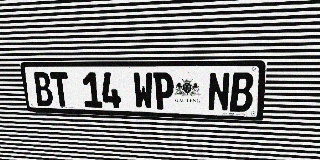1: (81, 72, 102, 108)
4: (100, 72, 121, 108)
B: (230, 72, 254, 112), (32, 72, 54, 106)
N: (208, 72, 231, 112)
P: (153, 72, 174, 110)
T: (50, 72, 71, 107)
W: (133, 72, 154, 109)
